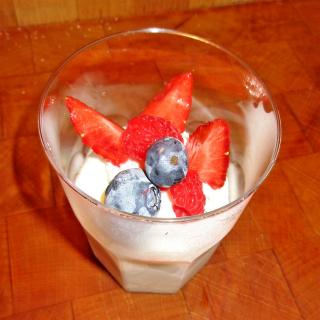Strawberry: (64, 95, 128, 167), (184, 117, 229, 189), (122, 110, 184, 160), (143, 73, 191, 133), (169, 165, 205, 222)
